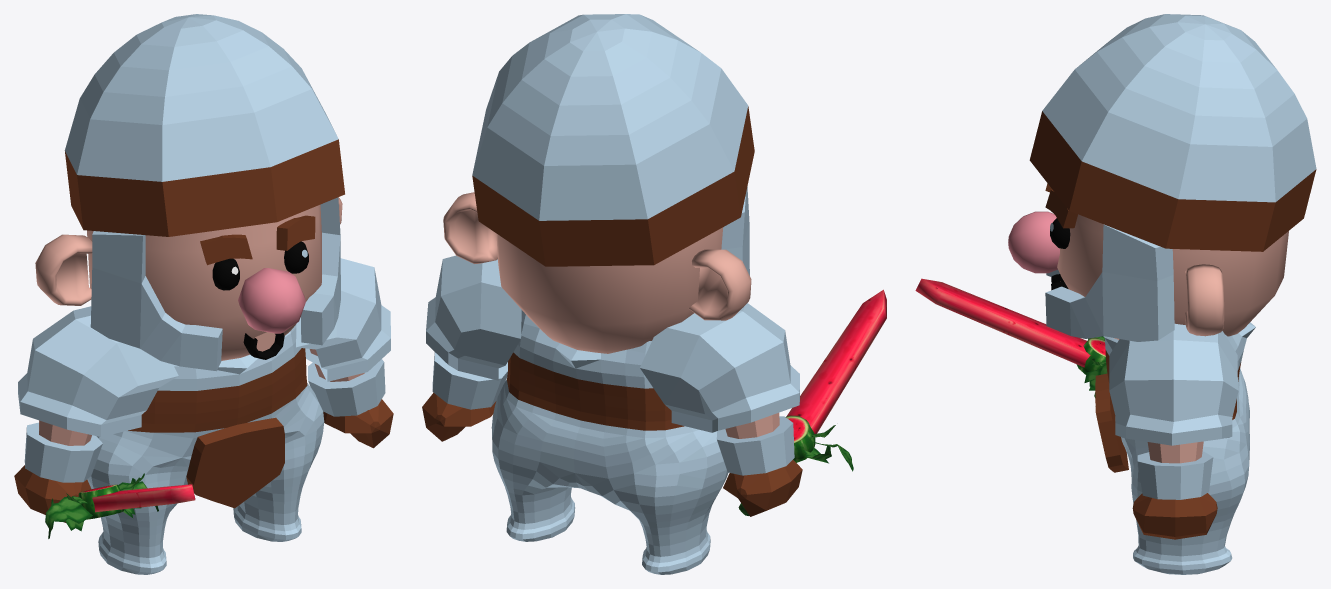
The model's file is Hero.fbx.
3 renders of one model, left to right at view 1: azimuth 30°, elevation 25°; view 2: azimuth 150°, elevation 25°; view 3: azimuth 270°, elevation 25°, orthographic. The views are drawn at different scales.
Parts seen in each view (by area): view 1: Oreille, Sword; view 2: Oreille, Sword; view 3: Oreille, Sword.
Part boxes in pixels (box(x1,y1,x2,y2)): Oreille: box(14, 14, 393, 574); Sword: box(45, 473, 195, 538); Oreille: box(422, 14, 802, 574); Sword: box(738, 289, 886, 515); Oreille: box(1008, 14, 1316, 574); Sword: box(915, 278, 1107, 397).
Bounding box in the file's own units: 137 × 178 × 127.
